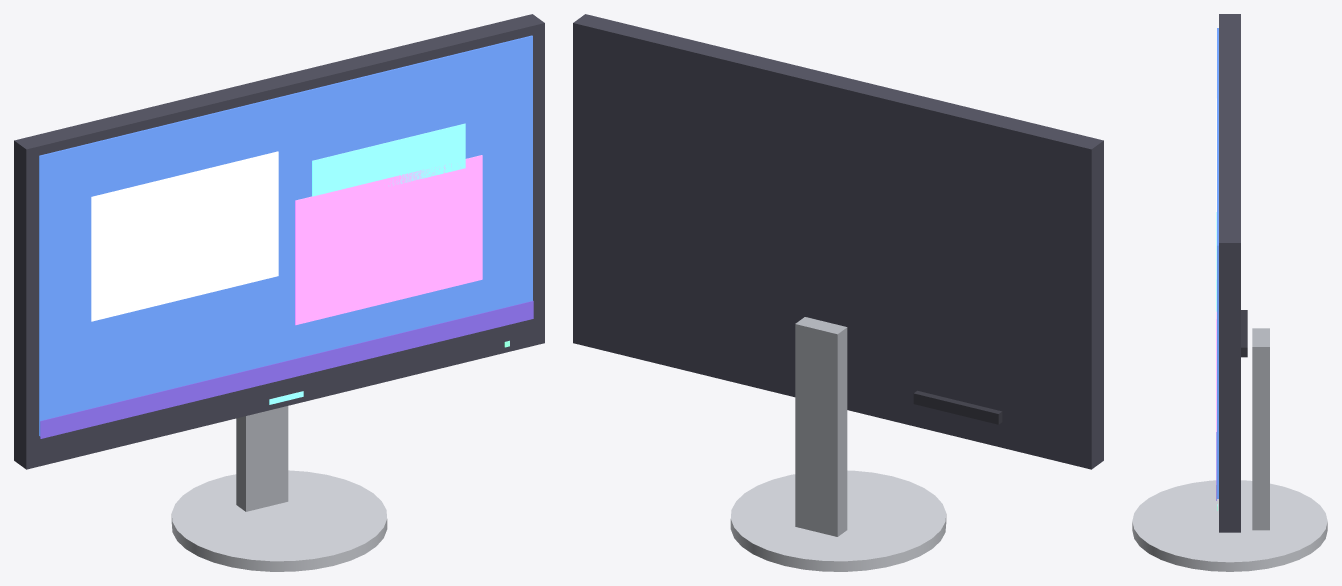
File: monitor.glb
The picture shows the model from 3 angles, left to right: view 1: azimuth 30°, elevation 25°; view 2: azimuth 150°, elevation 25°; view 3: azimuth 270°, elevation 25°; orthographic projection. The views are drawn at different scales.
Visible parts, largest first — view 1: Display_Panel, Bezel, Window_1, Window_2, Stand_Base, Taskbar, Window_3, Stand_Neck; view 2: Bezel, Stand_Base, Stand_Neck, Display_Ports; view 3: Stand_Base, Bezel, Stand_Neck, Display_Panel, Display_Ports.
Boxes of the visible parts, bbox=[...] form: Display_Panel: bbox=[39, 35, 532, 436]; Bezel: bbox=[14, 14, 544, 469]; Window_1: bbox=[91, 151, 278, 321]; Window_2: bbox=[295, 155, 482, 325]; Stand_Base: bbox=[171, 470, 387, 571]; Taskbar: bbox=[40, 301, 533, 438]; Window_3: bbox=[312, 123, 465, 196]; Stand_Neck: bbox=[236, 406, 288, 511]; Bezel: bbox=[573, 14, 1103, 469]; Stand_Base: bbox=[730, 470, 946, 571]; Stand_Neck: bbox=[795, 317, 847, 536]; Display_Ports: bbox=[913, 390, 1002, 424]; Stand_Base: bbox=[1132, 480, 1327, 571]; Bezel: bbox=[1219, 14, 1240, 532]; Stand_Neck: bbox=[1252, 328, 1269, 530]; Display_Panel: bbox=[1217, 28, 1218, 498]; Display_Ports: bbox=[1241, 310, 1247, 357].
Size of the model in its own units: 61 by 50 by 22.
